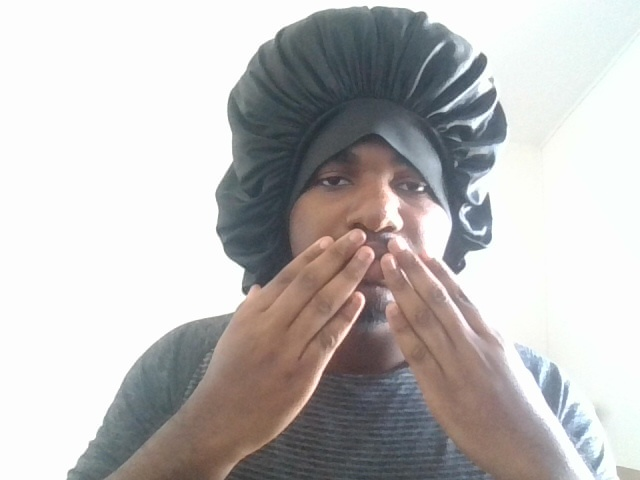Thank You: (126, 207, 608, 457)
